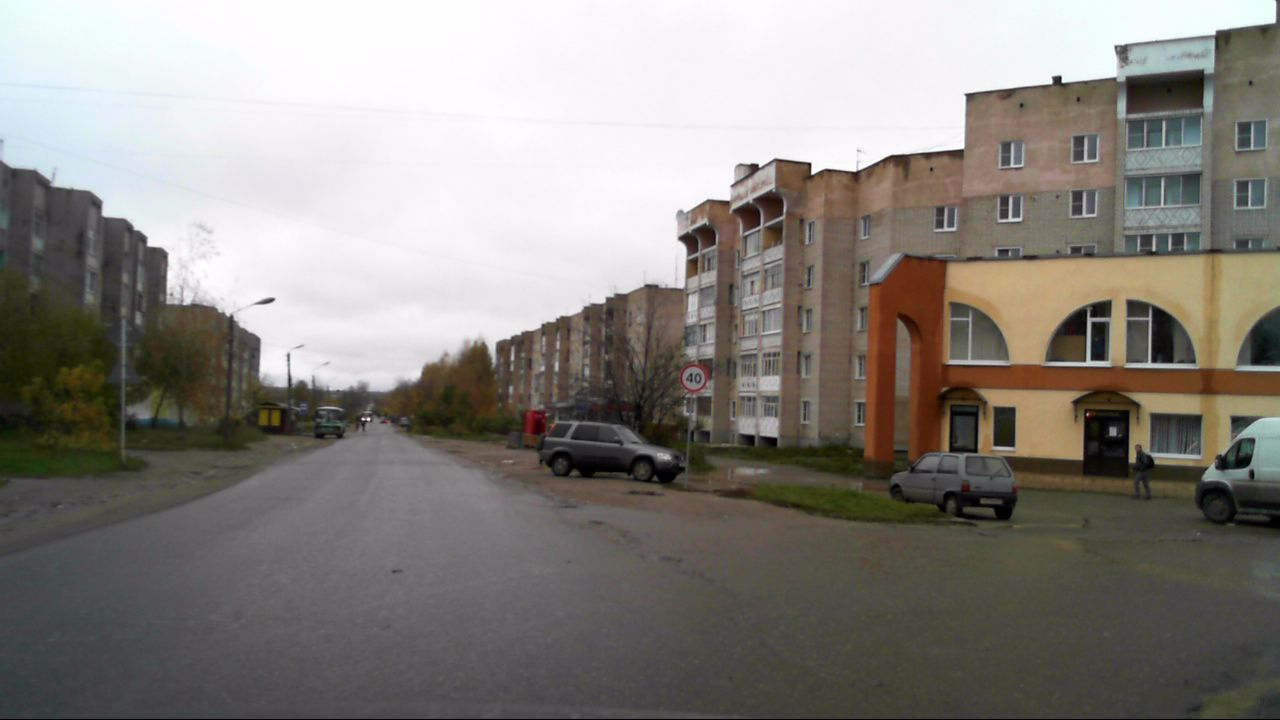speed_warning_40: (678, 362, 709, 393)
